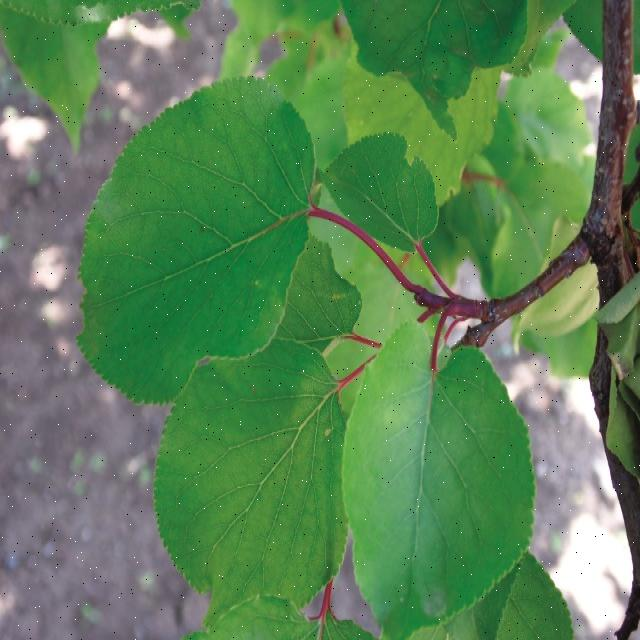kayisi yapragi: (74, 74, 308, 385), (344, 315, 535, 615), (150, 344, 352, 616), (343, 0, 534, 118), (2, 2, 102, 160), (321, 130, 437, 264), (462, 544, 581, 640), (199, 584, 381, 640)
